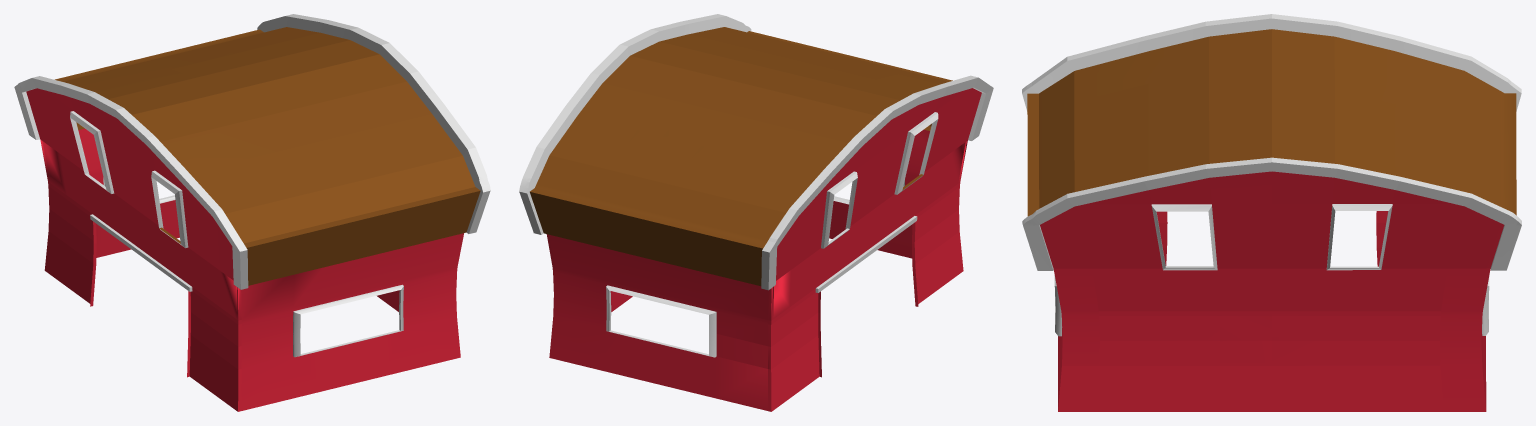
File: CuisineInterieur.fbx
3 renders of one model, left to right at view 1: azimuth 30°, elevation 25°; view 2: azimuth 150°, elevation 25°; view 3: azimuth 270°, elevation 25°, orthographic. The views are drawn at different scales.
Visible parts, largest first — view 1: Interior; view 2: Interior; view 3: Interior.
Part boxes in pixels (left/top/right/bottom): Interior: left=14, top=14, right=490, bottom=411; Interior: left=519, top=14, right=993, bottom=411; Interior: left=1022, top=14, right=1521, bottom=411.
Bounding box in the file's own units: 479 × 397 × 682.
